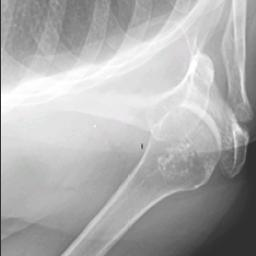cancer: (140, 132, 219, 192)
